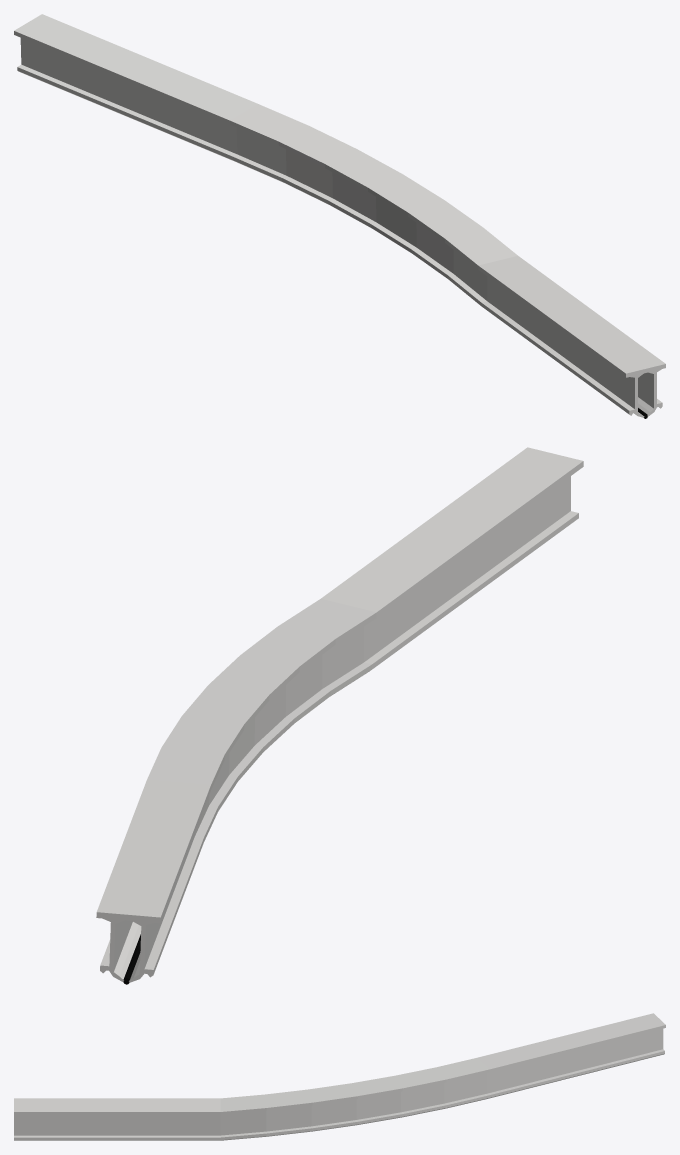
Rendered from catenary_rigid_end_l.obj.
3 renders of one model, top to bottom at view 1: azimuth 30°, elevation 25°; view 2: azimuth 150°, elevation 25°; view 3: azimuth 270°, elevation 25°, orthographic. The views are drawn at different scales.
Visible parts, largest first — view 1: 1.001; view 2: 1.001; view 3: 1.001.
Part boxes in pixels (x1,y1,x2,y2): 1.001: (14, 14, 665, 418); 1.001: (96, 447, 583, 984); 1.001: (14, 1013, 665, 1140).
Size of the model in its own units: 0.9138 by 0.4373 by 3.78.
2 materials, 2 textured.
